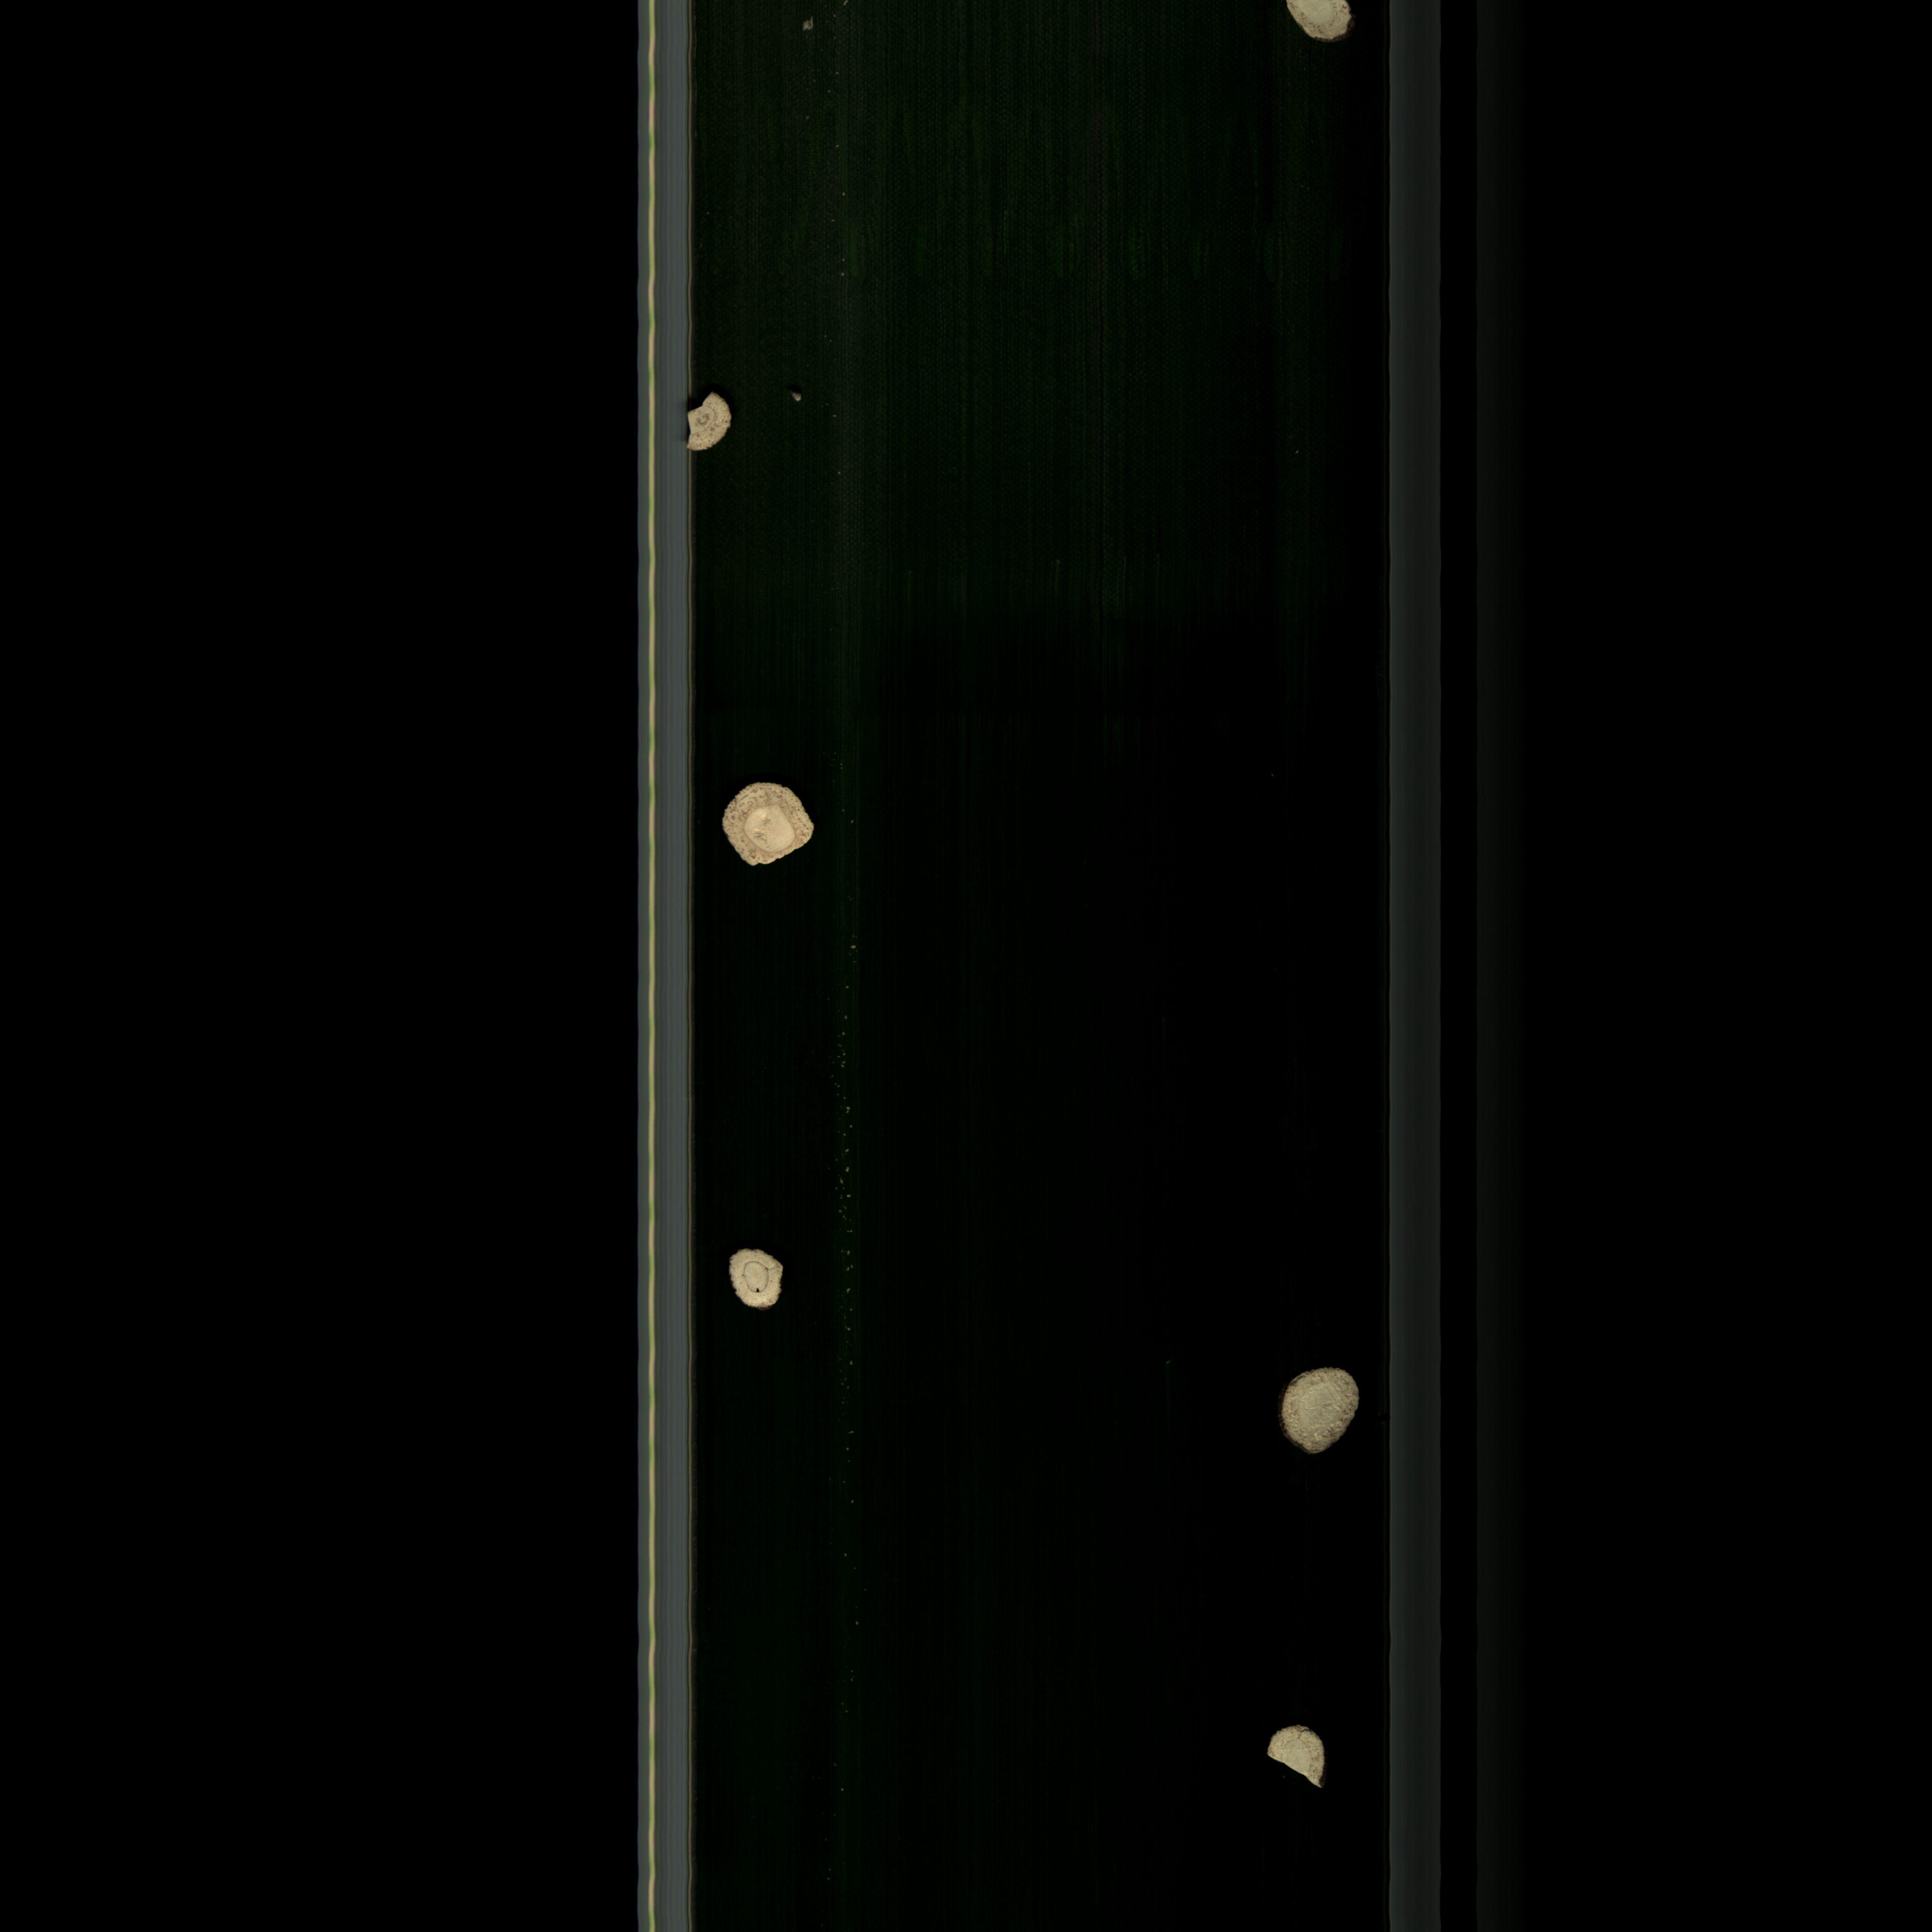debris: (708, 773, 830, 879), (1249, 1718, 1338, 1805), (672, 380, 738, 462)
hole: (718, 1247, 798, 1320)
